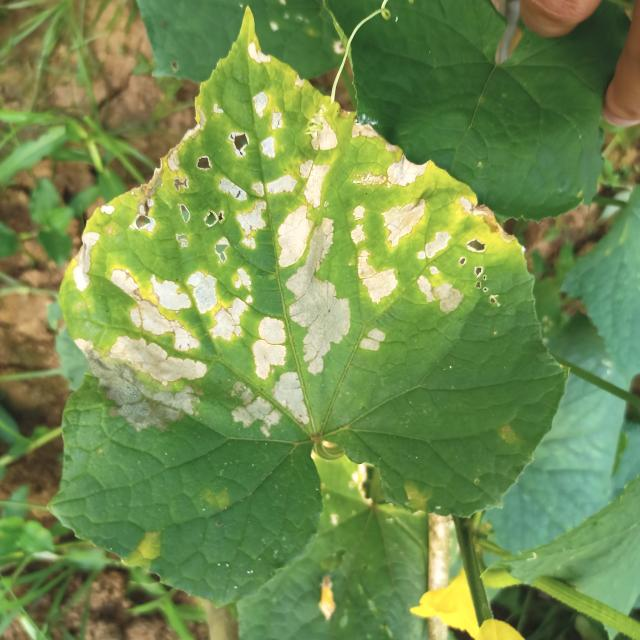disease_cucumber: (64, 26, 501, 441), (115, 524, 169, 583)
